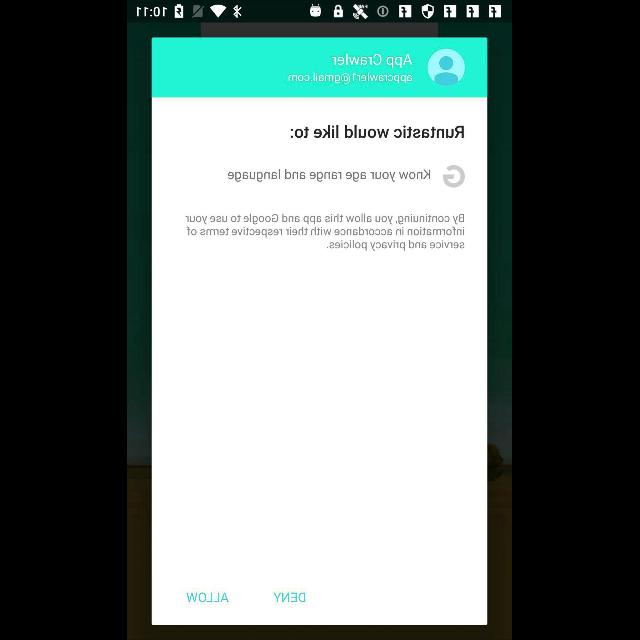icon: (428, 48, 466, 86)
panel: (152, 38, 488, 624)
text: (186, 213, 466, 251), (228, 169, 432, 183), (291, 125, 465, 139), (289, 72, 413, 84), (332, 54, 413, 68), (443, 166, 465, 188), (187, 592, 229, 602), (274, 592, 306, 602)
uppertaskbar: (128, 1, 512, 23)
